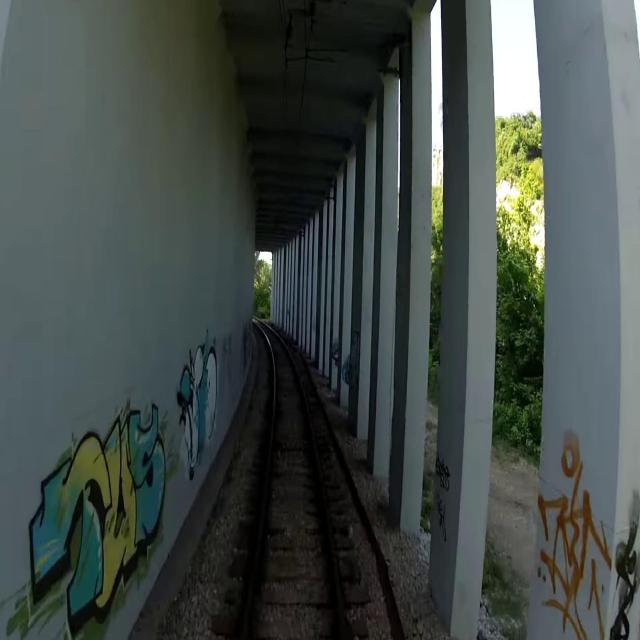rail-track: (246, 321, 340, 639)
